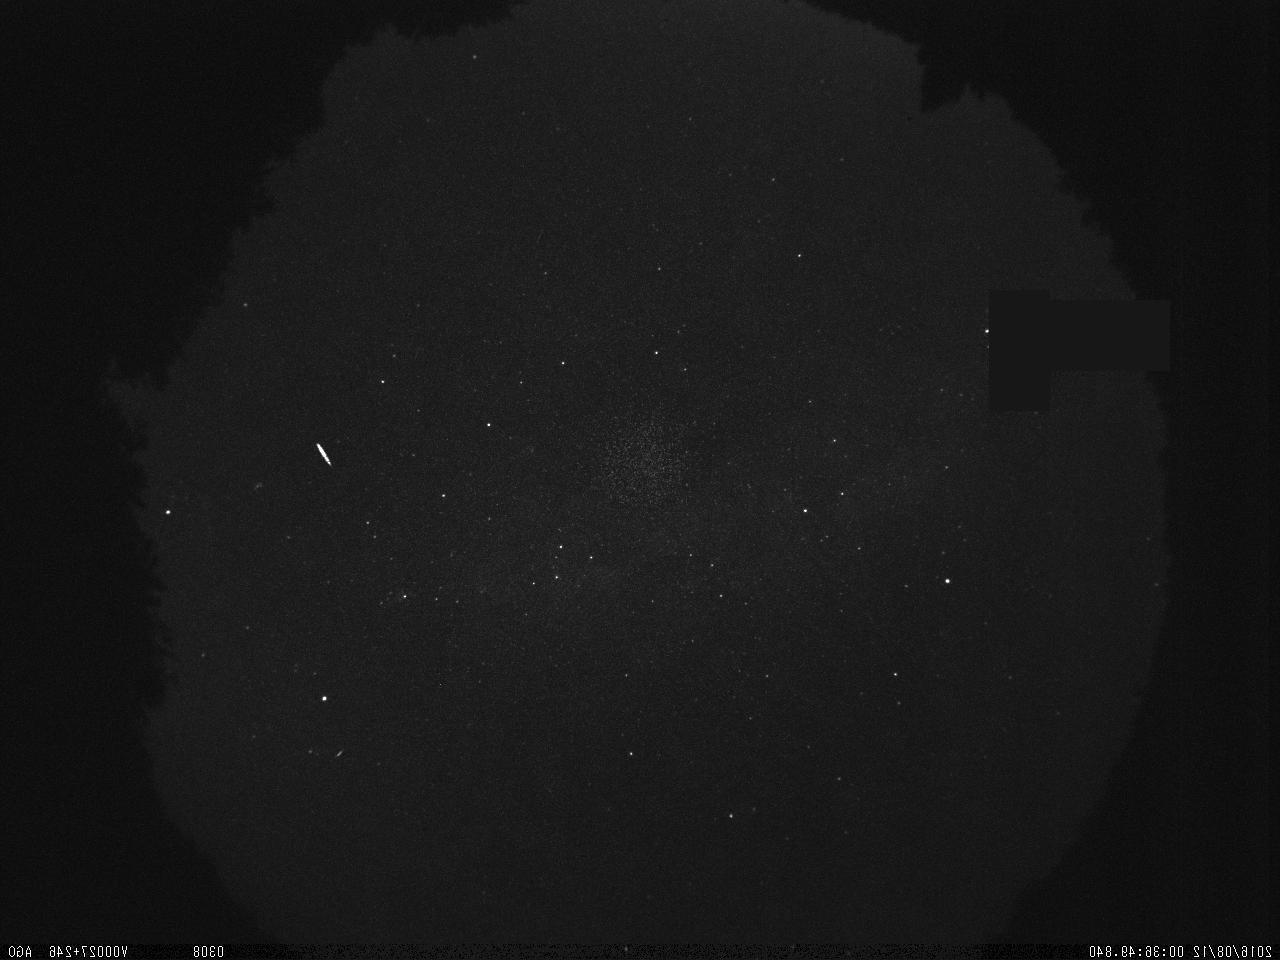meteor: (307, 429, 338, 478)
